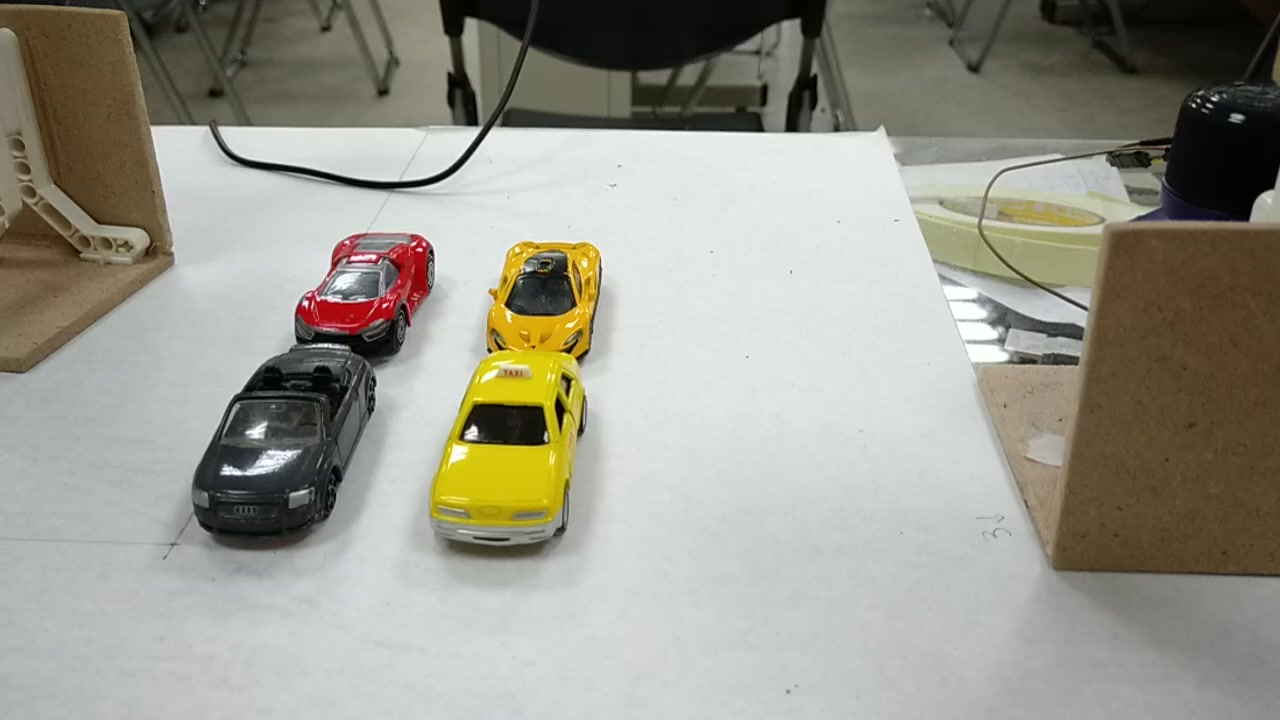car: (189, 348, 368, 538), (432, 345, 577, 550), (293, 234, 436, 349), (485, 237, 603, 349)
